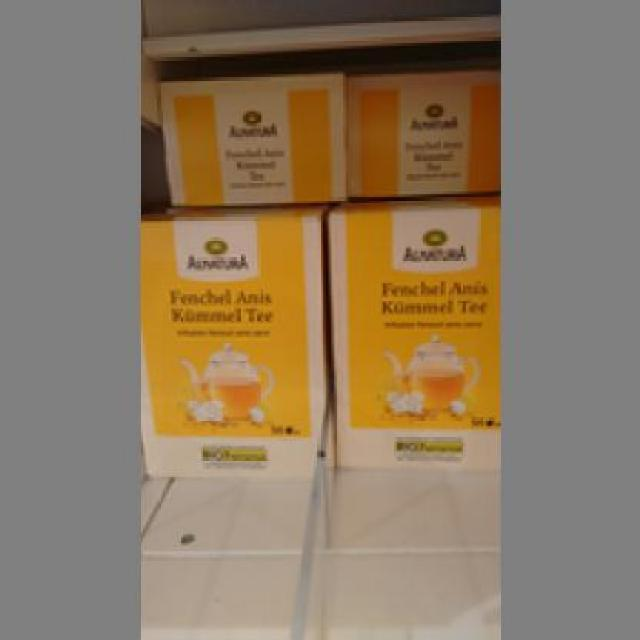Tea: (140, 202, 323, 475), (328, 197, 498, 474)
